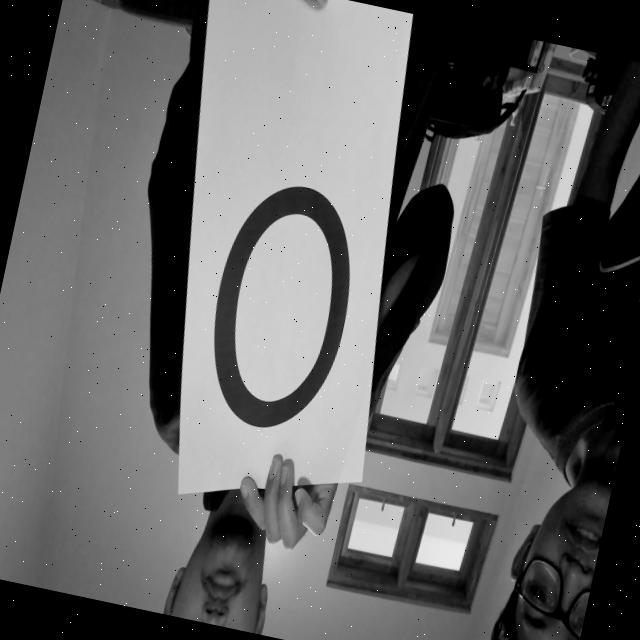o: (164, 124, 394, 470)
